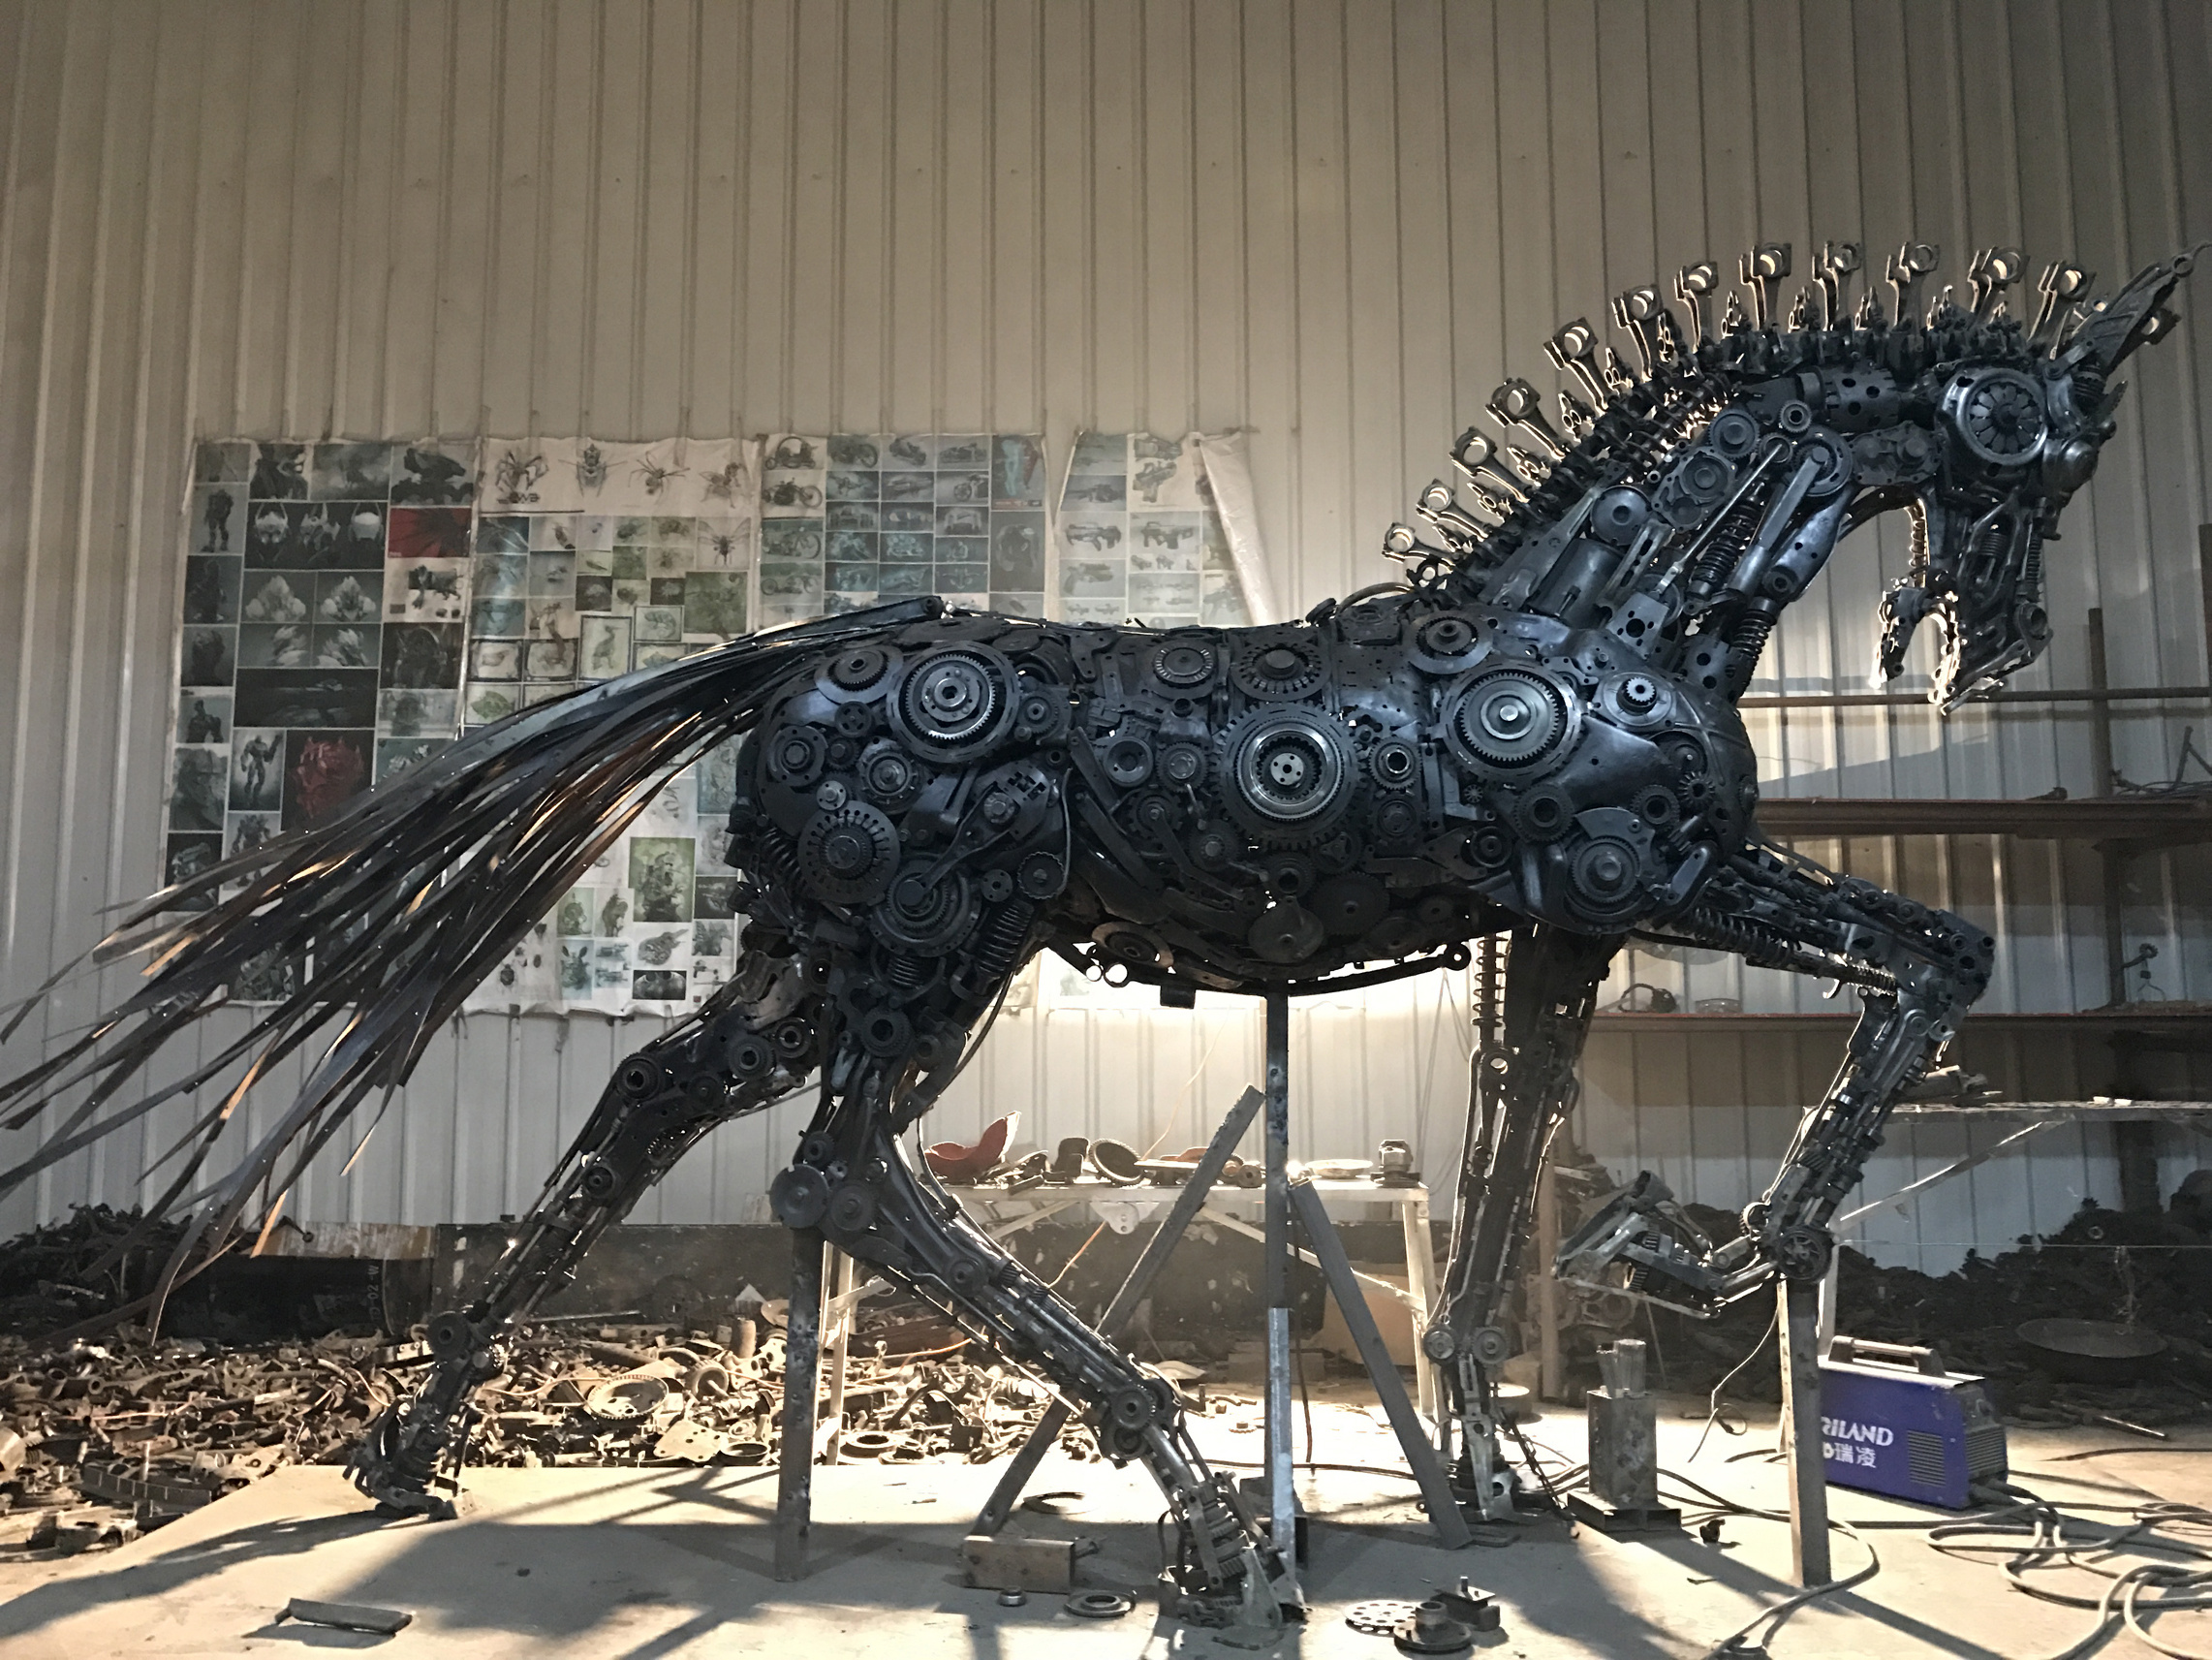background: (2, 228, 2196, 1554)
